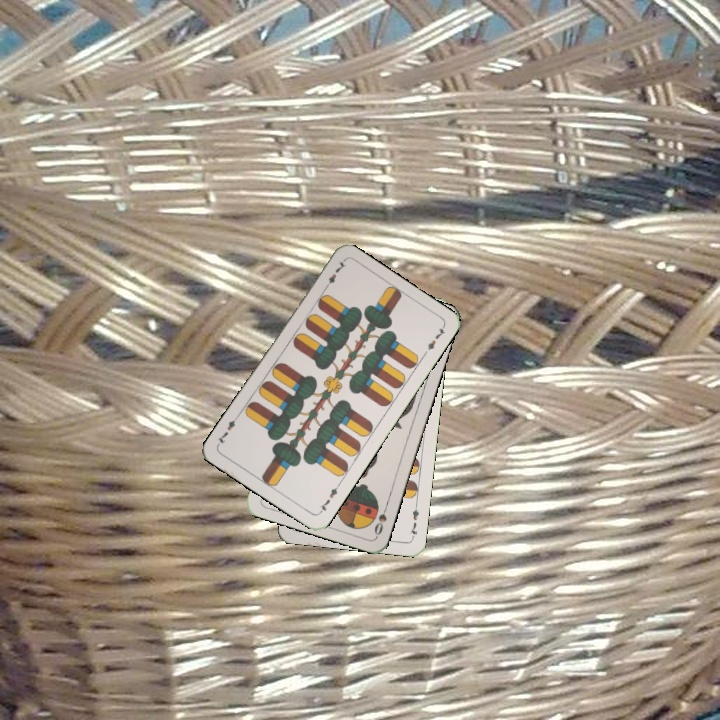E7: (320, 257, 349, 293), (315, 480, 342, 516), (406, 500, 421, 541)
SO: (370, 498, 391, 538)
